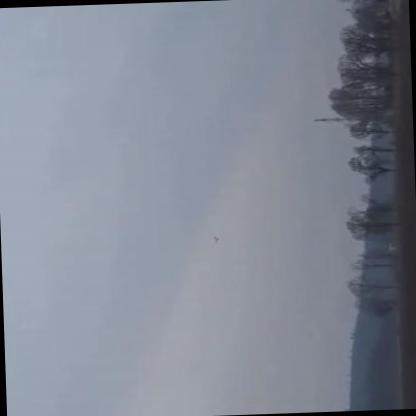plane: (211, 232, 223, 244)
